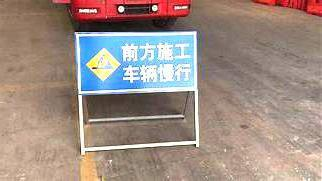sign: (75, 32, 197, 91)
